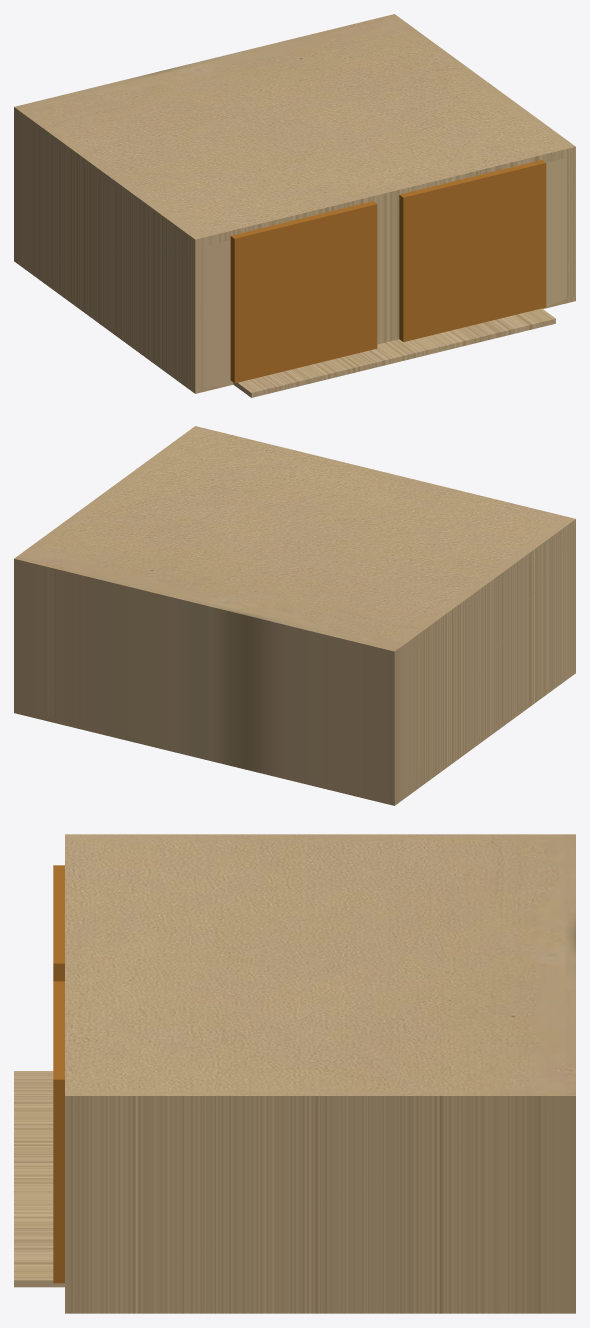
File: Inner_Room.fbx
3 renders of one model, top to bottom at view 1: azimuth 30°, elevation 25°; view 2: azimuth 150°, elevation 25°; view 3: azimuth 270°, elevation 25°, orthographic. The views are drawn at different scales.
Parts seen in each view (by area): view 1: Room, Door_01, Door_01.003, Door_01.005, Door_01.004, Door_01.001, Door_01.002; view 2: Room; view 3: Room, Door_01.005, Door_01.002.
Boxes of the visible parts, x1,y1,x2,y2 form: Room: [14, 14, 575, 397]; Door_01: [230, 224, 282, 383]; Door_01.003: [399, 183, 450, 342]; Door_01.005: [495, 160, 546, 318]; Door_01.004: [447, 171, 498, 330]; Door_01.001: [278, 212, 329, 371]; Door_01.002: [326, 201, 377, 359]; Room: [14, 426, 575, 805]; Room: [14, 834, 575, 1313]; Door_01.005: [53, 1047, 64, 1283]; Door_01.002: [53, 931, 64, 981].
Bounding box in the file's own units: 800 × 310 × 726.
